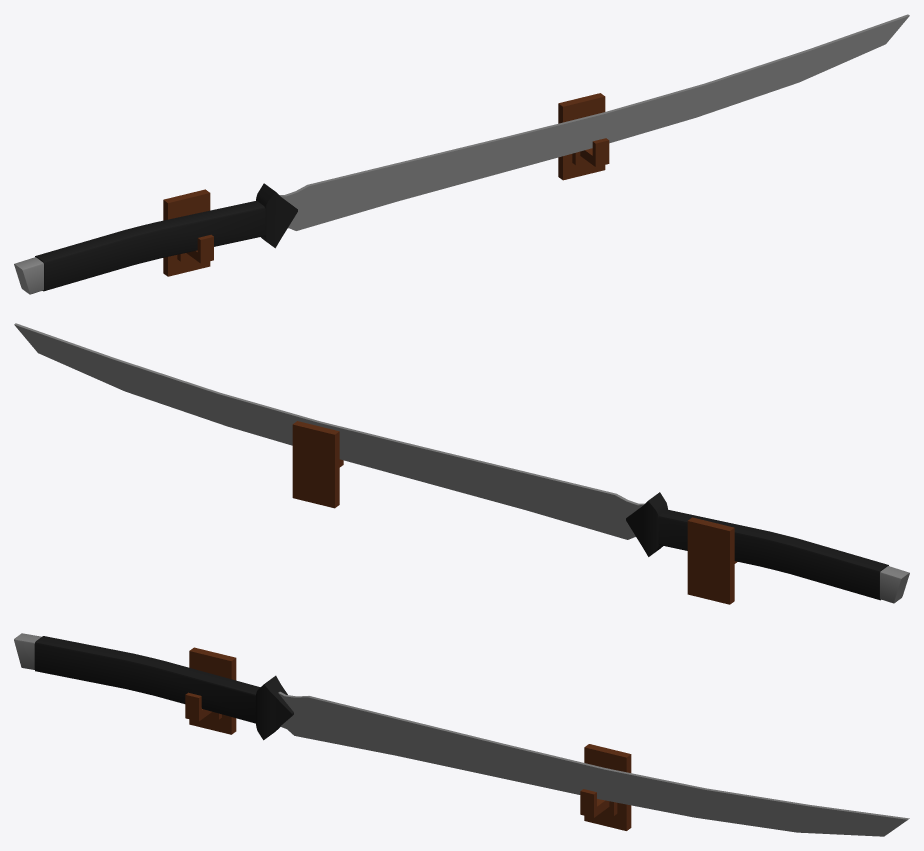
Rendered from Katana (1).fbx.
3 views of the same model, one above another, from view 1: azimuth 30°, elevation 25°; view 2: azimuth 150°, elevation 25°; view 3: azimuth 330°, elevation 25° (orthographic).
Visible parts, largest first — view 1: Katana; view 2: Katana; view 3: Katana.
Boxes of the visible parts, x1,y1,x2,y2 form: Katana: (14,14,909,294); Katana: (14,323,909,604); Katana: (14,633,909,836).
Bounding box in the file's own units: 120 × 11.79 × 5.39.
